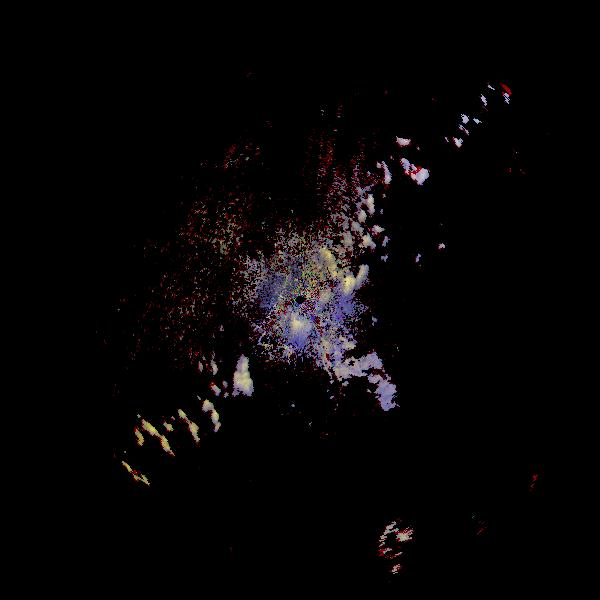roost: (228, 310, 426, 508)
